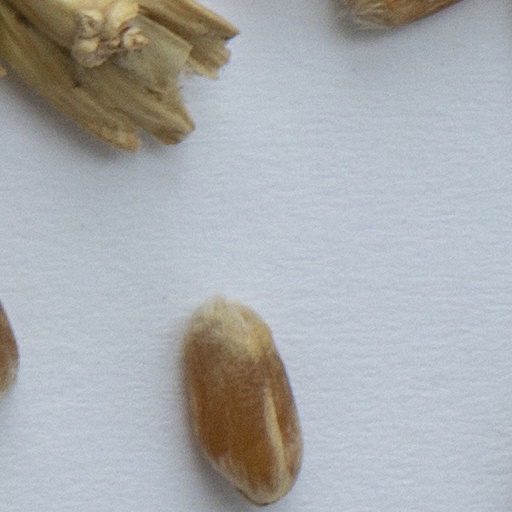Peel-poly: (0, 0, 235, 152)
